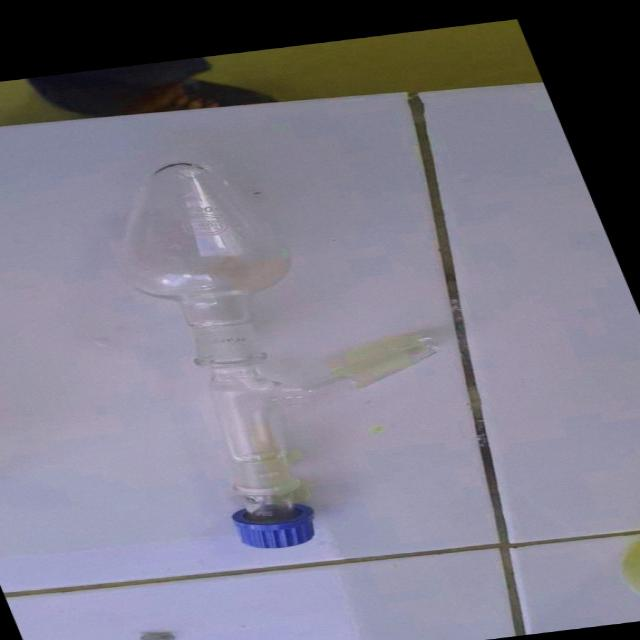Distillation: (0, 129, 541, 572)
